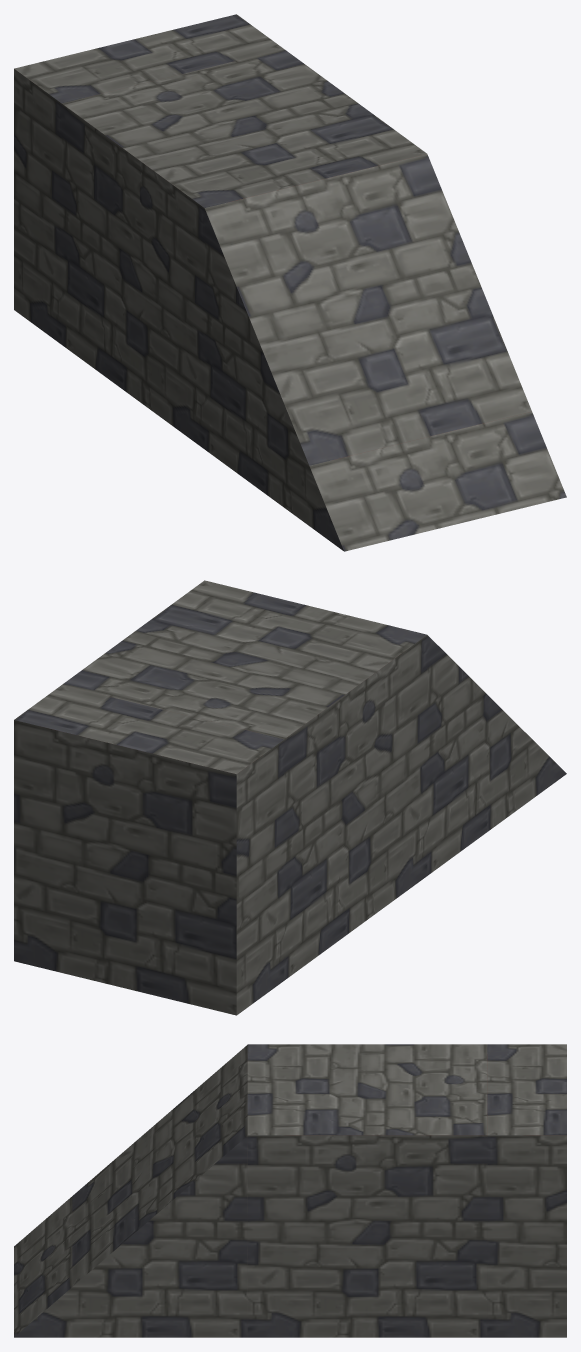
File: OutdoorM_Stair_a_platform.FBX
The picture shows the model from 3 angles, top to bottom: view 1: azimuth 30°, elevation 25°; view 2: azimuth 150°, elevation 25°; view 3: azimuth 270°, elevation 25°; orthographic projection. The views are drawn at different scales.
Visible parts, largest first — view 1: OutdoorM_Stair_a_platform; view 2: OutdoorM_Stair_a_platform; view 3: OutdoorM_Stair_a_platform.
Part boxes in pixels (left/top/right/bottom): OutdoorM_Stair_a_platform: left=14, top=14, right=566, bottom=551; OutdoorM_Stair_a_platform: left=14, top=580, right=566, bottom=1015; OutdoorM_Stair_a_platform: left=14, top=1044, right=566, bottom=1337.
Bounding box in the file's own units: 15.39 × 15.94 × 39.54.
